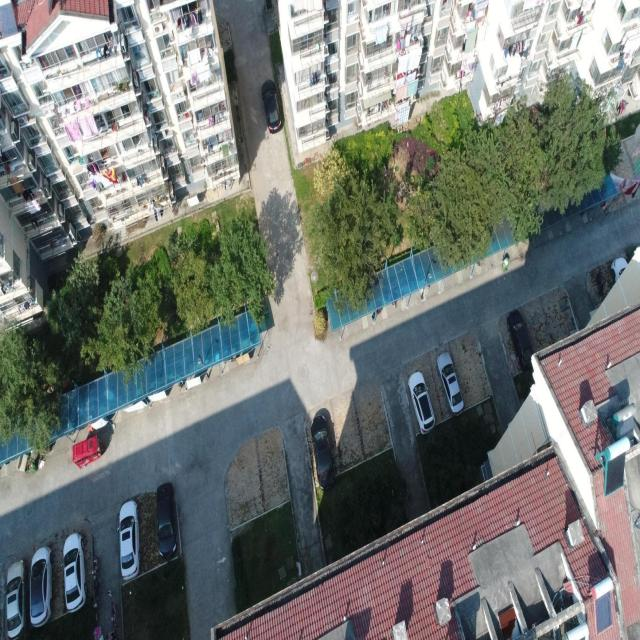p3rson: (106, 629, 117, 640), (106, 588, 112, 596)
